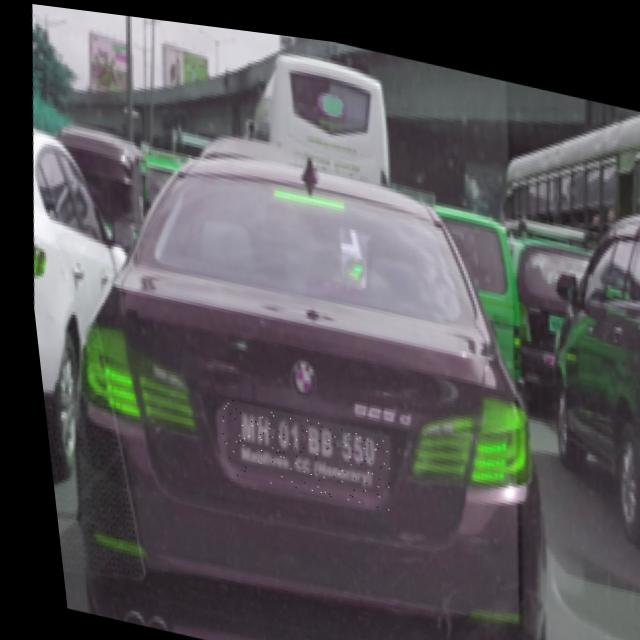license_plate: (204, 392, 386, 502)
